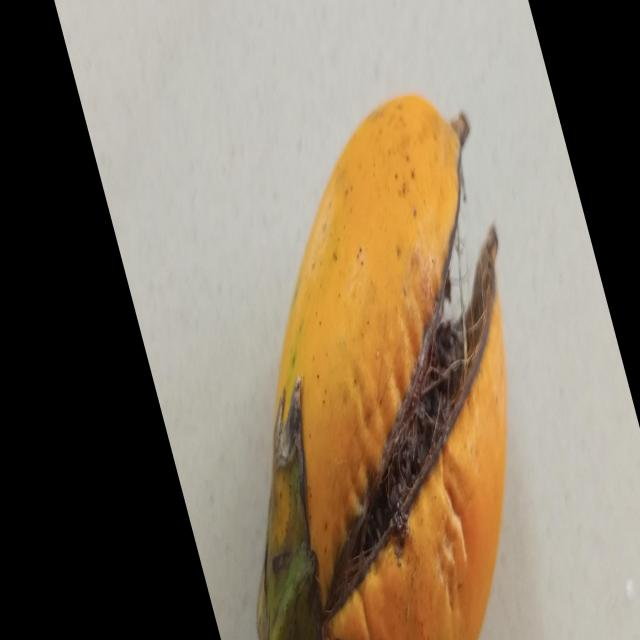damaged: (257, 95, 506, 640)
